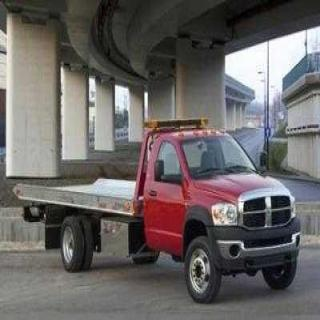Towing_truck: (12, 119, 302, 303)
